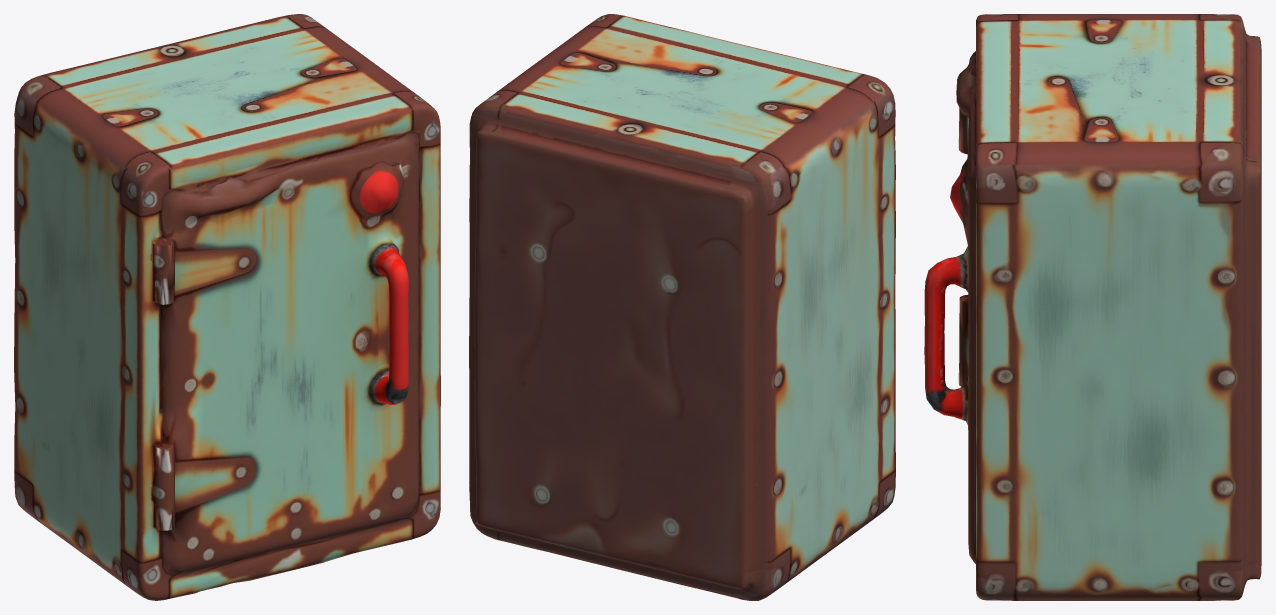
File: Could_you_generate_th_1120194232_texture.fbx
3 views of the same model, side by side, from view 1: azimuth 30°, elevation 25°; view 2: azimuth 150°, elevation 25°; view 3: azimuth 270°, elevation 25° (orthographic). The views are drawn at different scales.
Parts seen in each view (by area): view 1: Mesh_0.002; view 2: Mesh_0.002; view 3: Mesh_0.002.
Boxes of the visible parts, x1,y1,x2,y2 form: Mesh_0.002: (14, 14, 440, 600); Mesh_0.002: (469, 14, 895, 600); Mesh_0.002: (924, 14, 1261, 600).
Size of the model in its own units: 139 by 191 by 129.
1 material, 1 textured.
